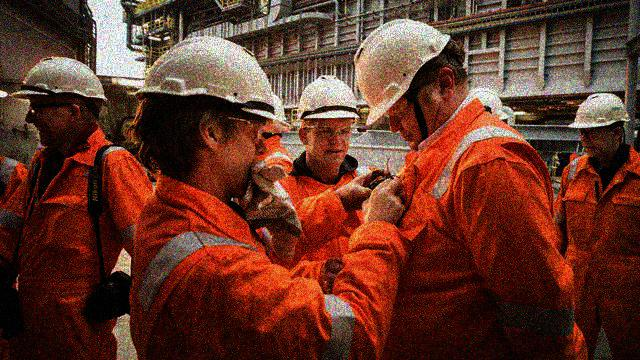helmet: (127, 38, 290, 200), (351, 15, 472, 151), (10, 54, 109, 150), (297, 74, 362, 170), (567, 92, 632, 159), (253, 89, 292, 149), (464, 85, 510, 130)
